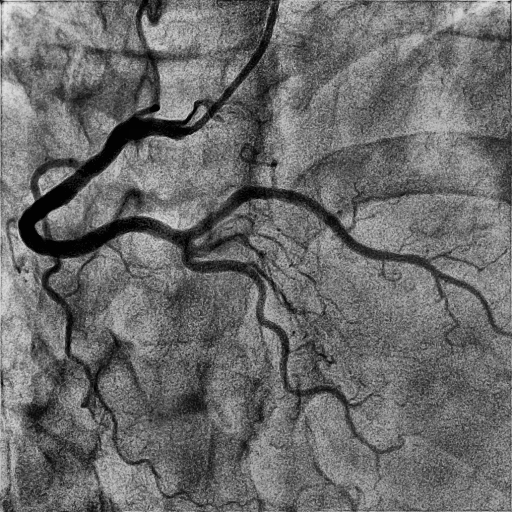pborca: (182, 187, 498, 331)
pda: (180, 245, 401, 454)
rca: (18, 117, 191, 258)
